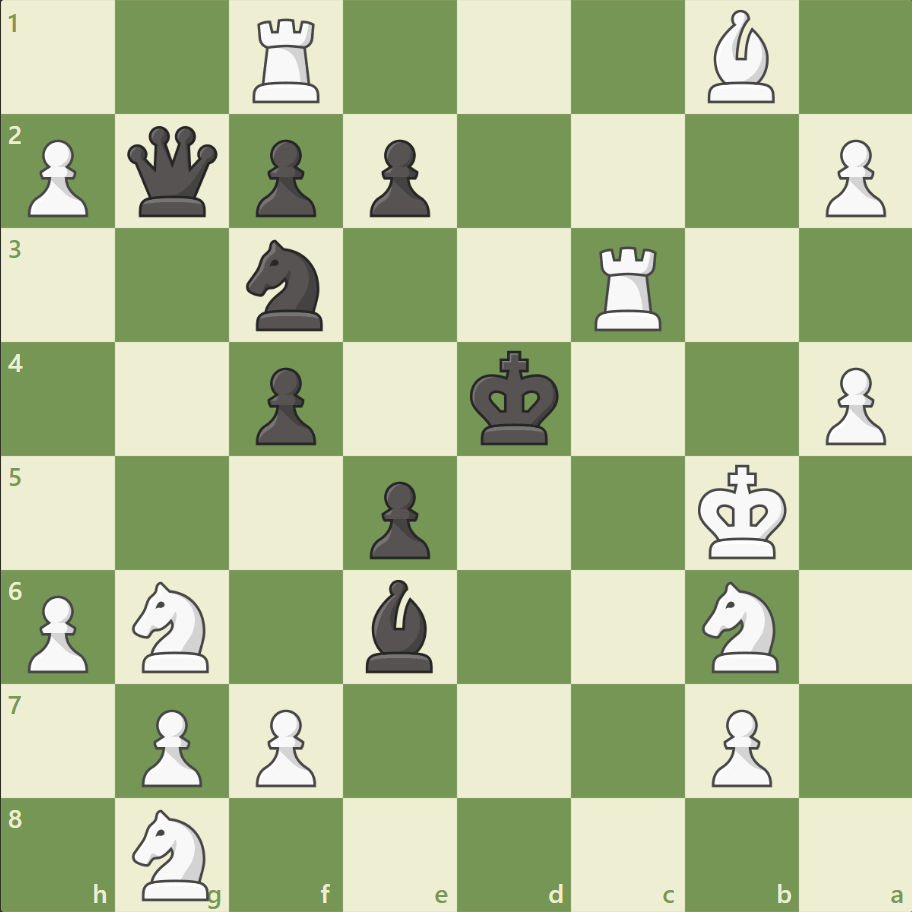B: (698, 6, 782, 109)
K: (692, 458, 792, 566)
N: (124, 802, 222, 904), (124, 575, 222, 677), (692, 575, 789, 677)
P: (701, 700, 776, 791), (247, 700, 322, 791), (133, 700, 208, 791), (20, 586, 95, 677), (20, 132, 95, 223), (815, 359, 889, 450), (815, 132, 889, 223)
R: (587, 239, 670, 336), (246, 12, 329, 109)
b: (358, 574, 442, 676)
k: (465, 344, 565, 452)
n: (238, 234, 335, 337)
p: (247, 359, 322, 450), (247, 132, 322, 223), (361, 473, 435, 564), (361, 132, 435, 223)
q: (124, 122, 223, 222)
